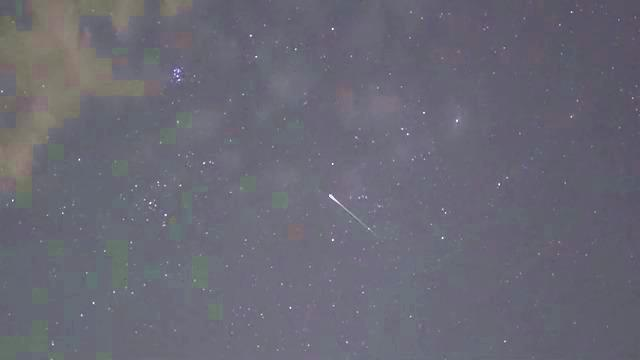meteorite: (309, 191, 391, 236)
